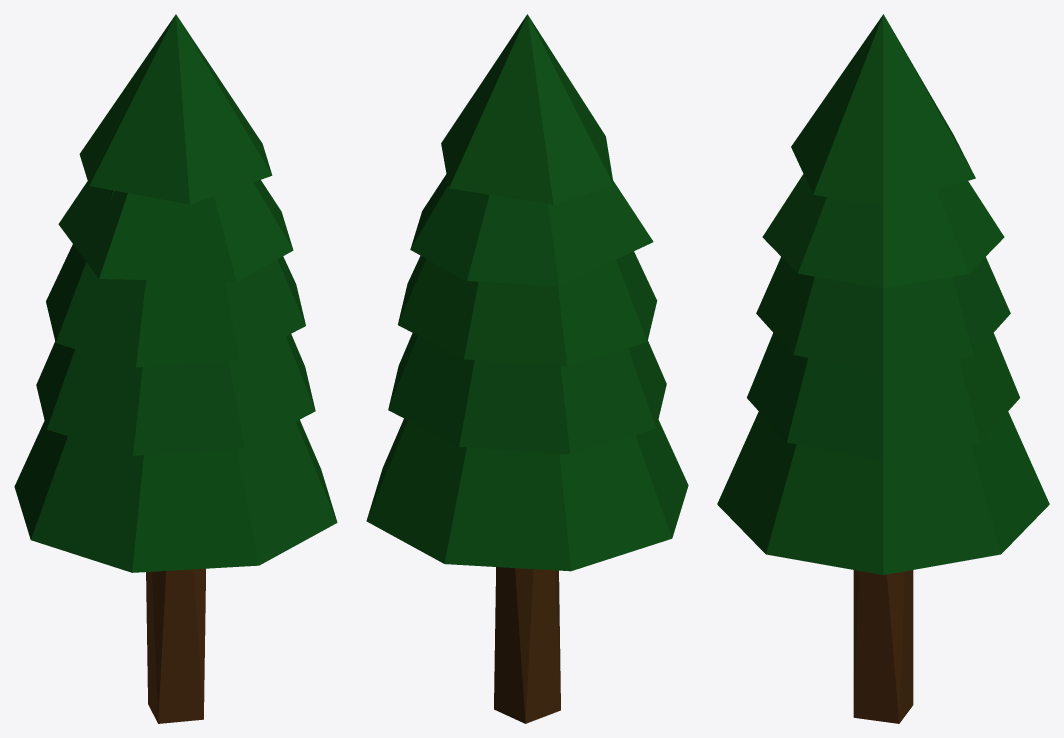
The model's file is tree3_1.dae.
3 views of the same model, side by side, from view 1: azimuth 30°, elevation 25°; view 2: azimuth 150°, elevation 25°; view 3: azimuth 270°, elevation 25° (orthographic).
Visible parts, largest first — view 1: tree; view 2: tree; view 3: tree.
Boxes of the visible parts, bbox=[...] form: tree: bbox=[14, 14, 337, 723]; tree: bbox=[366, 14, 688, 723]; tree: bbox=[717, 14, 1049, 723].
Size of the model in its own units: 10.45 by 10.37 by 23.98.
